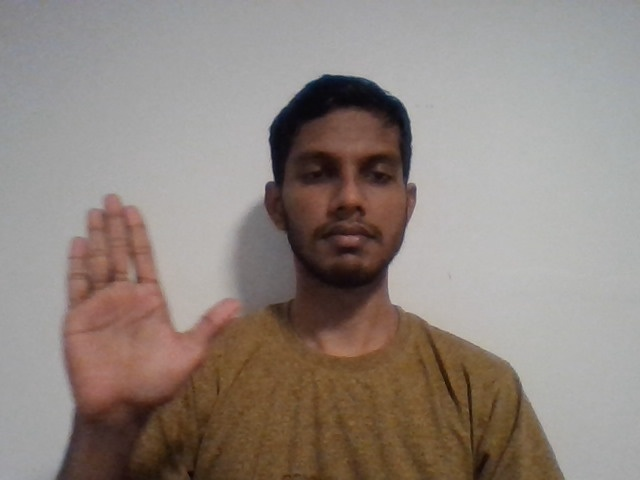hello: (46, 188, 250, 430)
